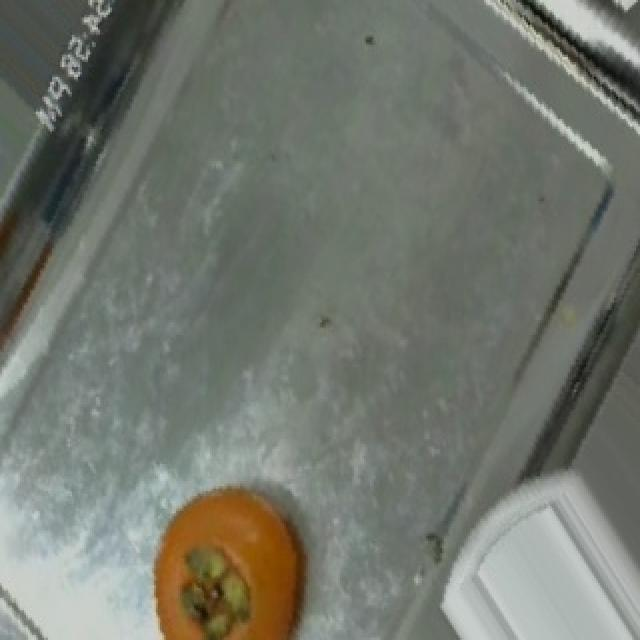Fruit: (130, 469, 326, 640), (456, 491, 640, 640)
